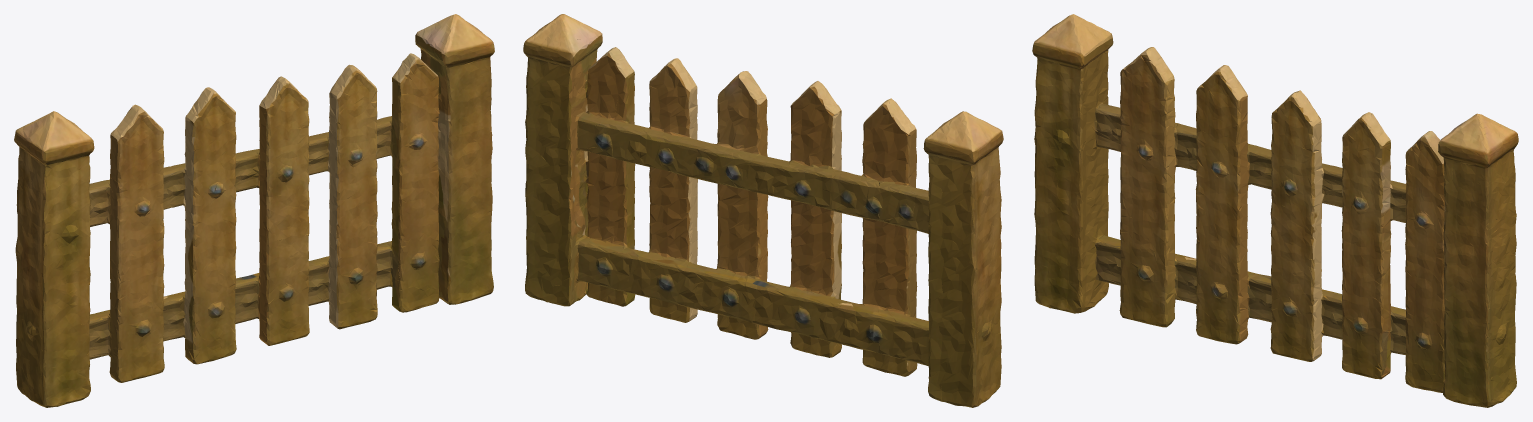
File: prop-fence.glb
3 views of the same model, side by side, from view 1: azimuth 30°, elevation 25°; view 2: azimuth 150°, elevation 25°; view 3: azimuth 330°, elevation 25° (orthographic).
Parts seen in each view (by area): view 1: geometry_0; view 2: geometry_0; view 3: geometry_0.
Boxes of the visible parts, x1=… form: geometry_0: x1=14, y1=14, x2=494, y2=407; geometry_0: x1=523, y1=14, x2=1003, y2=407; geometry_0: x1=1032, y1=14, x2=1518, y2=407.
Size of the model in its own units: 2 by 1.2 by 0.2381.
1 material, 1 textured.
